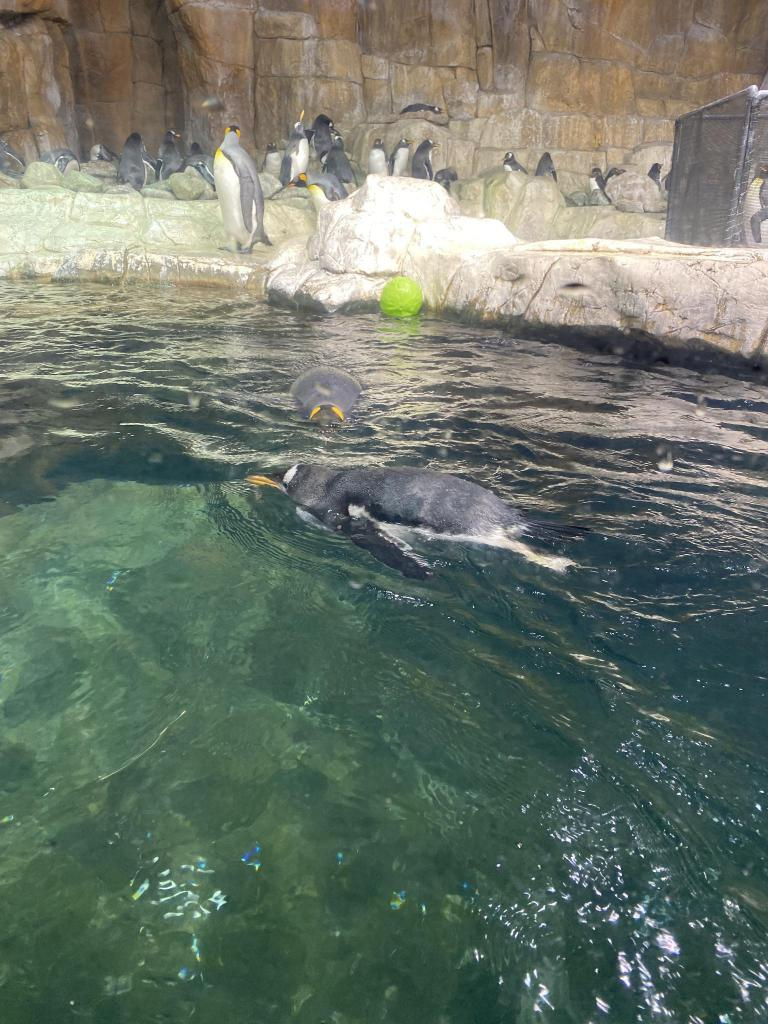penguin: (243, 458, 590, 582), (215, 124, 273, 252), (290, 365, 362, 435), (287, 170, 349, 216), (118, 131, 156, 191), (742, 162, 768, 248), (320, 131, 358, 189), (280, 108, 306, 184), (308, 112, 334, 160), (157, 130, 181, 178), (388, 134, 416, 174), (415, 136, 440, 178), (366, 134, 390, 176), (43, 148, 81, 174), (0, 137, 23, 177), (498, 151, 526, 181), (534, 150, 558, 184), (588, 164, 608, 202), (433, 166, 459, 194), (398, 102, 445, 116), (90, 140, 112, 162), (648, 160, 664, 190)
